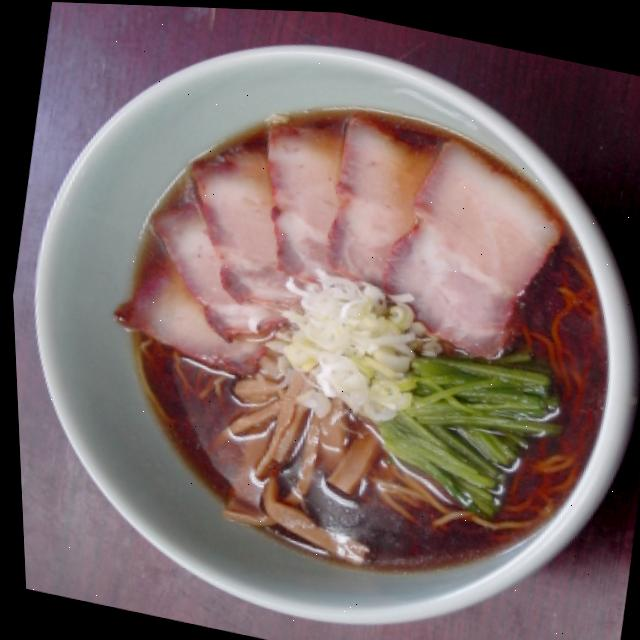面条主食: (65, 57, 640, 609)
